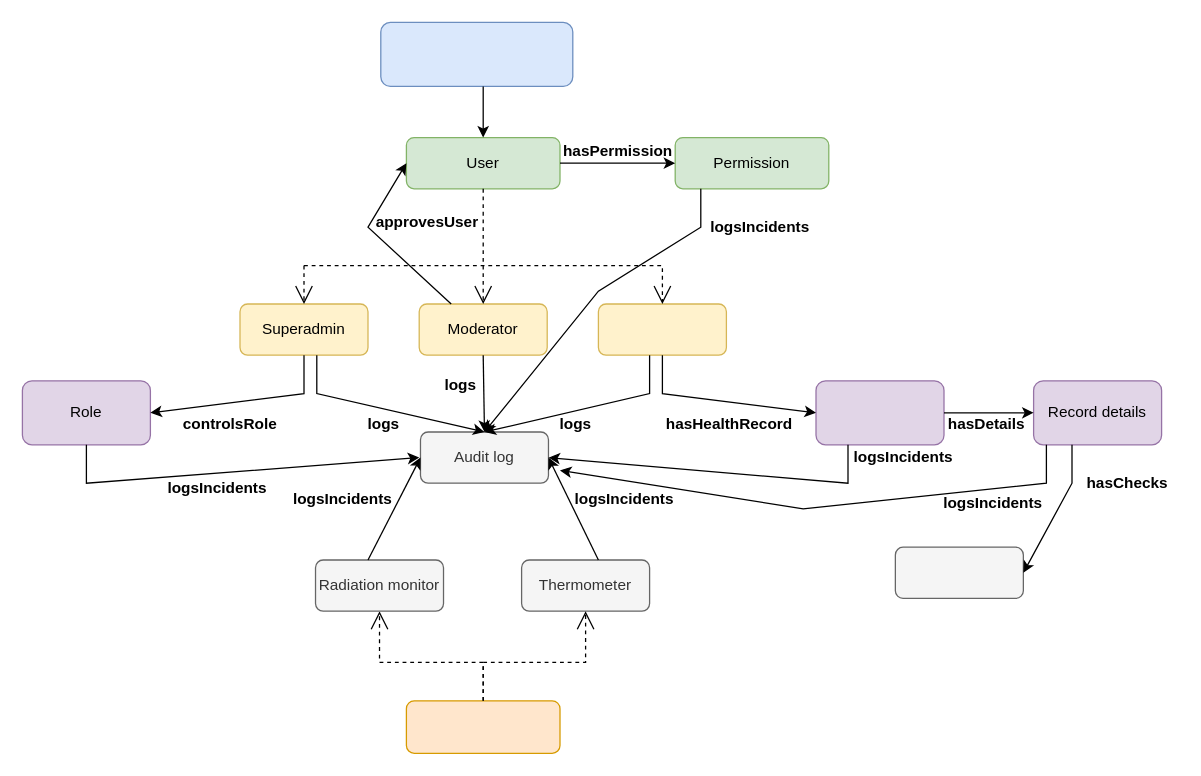
Some shapes in this 1201 by 776 pixel diagram are drawn without their labels. The centre of each missing label's shape, as x and y in pixels:
Astronaut: the point at 661,329
Health check: the point at 958,572
Health record: the point at 879,412
ISS Health Monitoring System: the point at 476,53
Sensor: the point at 482,726
